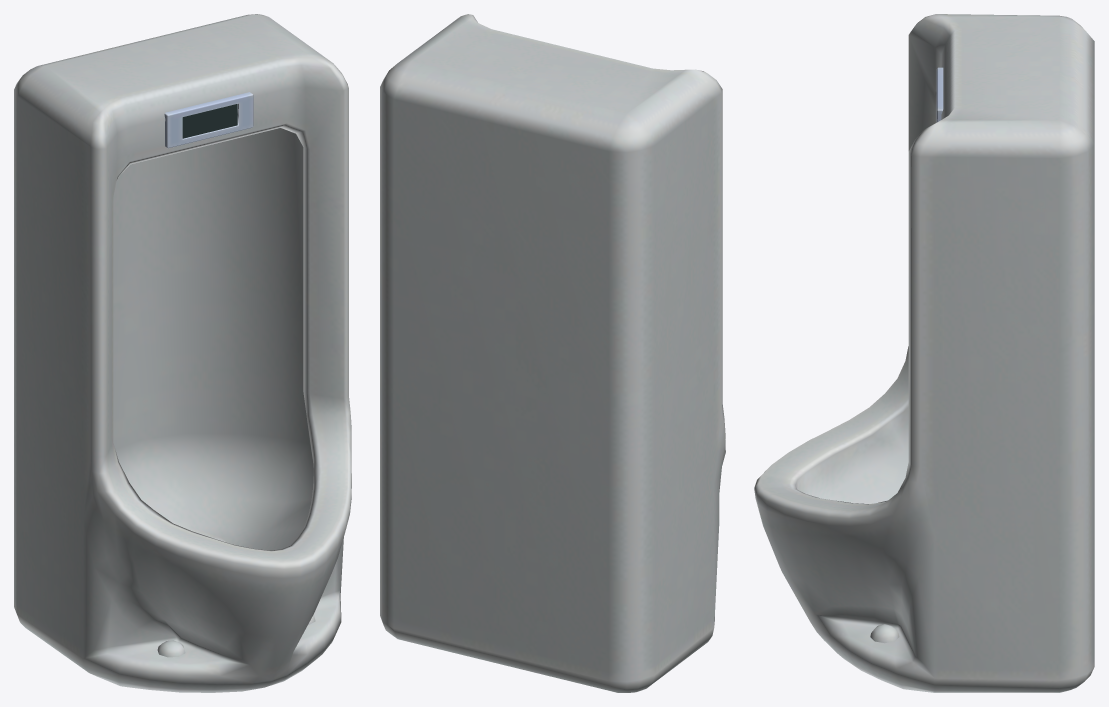
The model's file is FtrWCUrinal.glb.
The picture shows the model from 3 angles, left to right: view 1: azimuth 30°, elevation 25°; view 2: azimuth 150°, elevation 25°; view 3: azimuth 270°, elevation 25°; orthographic projection. The views are drawn at different scales.
Parts seen in each view (by area): view 1: model__mBody, panel__mSensor; view 2: model__mBody; view 3: model__mBody.
Boxes of the visible parts, bbox=[...] form: model__mBody: bbox=[14, 14, 351, 692]; panel__mSensor: bbox=[182, 104, 237, 138]; model__mBody: bbox=[380, 14, 725, 692]; model__mBody: bbox=[754, 14, 1094, 692].
Size of the model in its own units: 4.86 by 9.86 by 5.35.
Materials: 2 (2 with a texture image).
